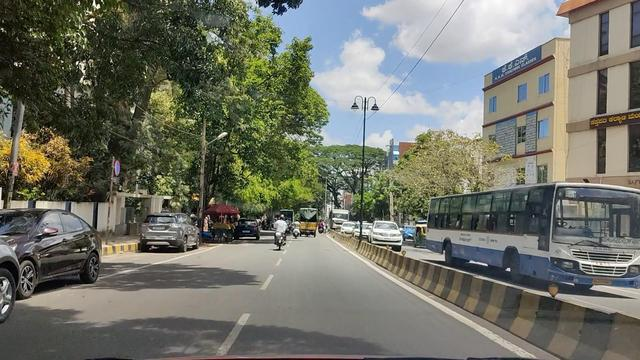LMV: (142, 209, 191, 253), (262, 210, 290, 248)
